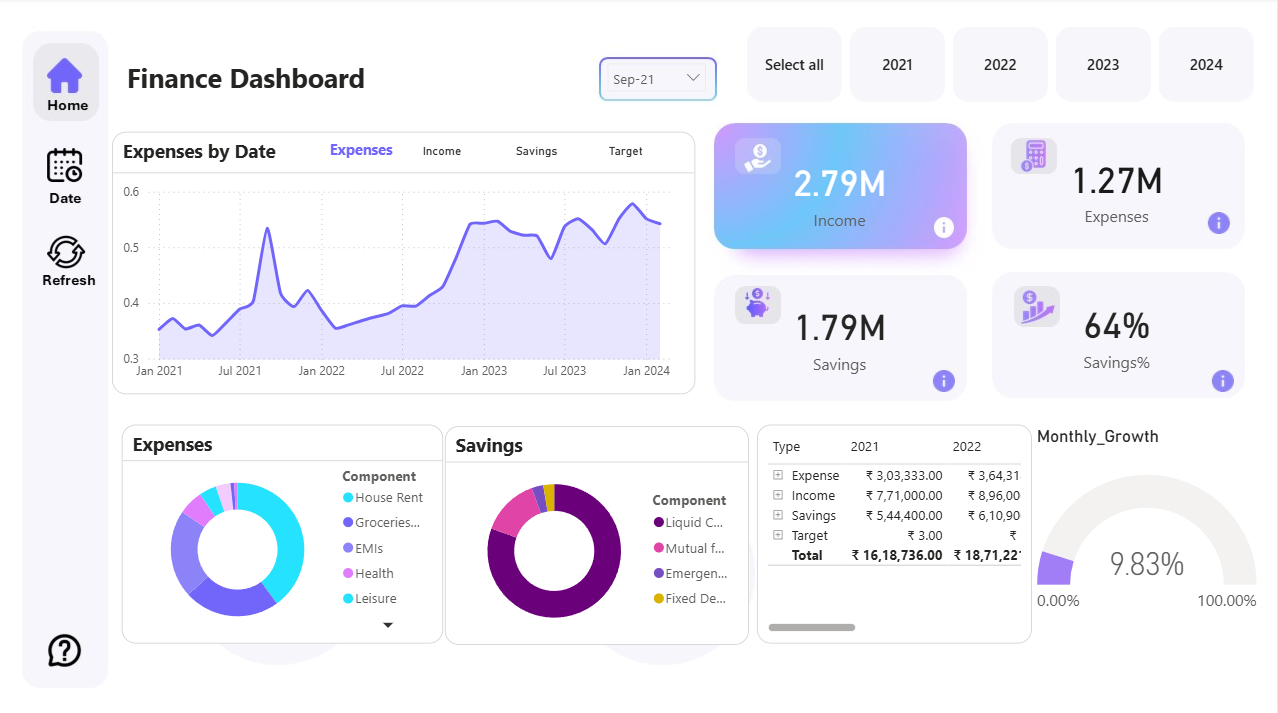

The page's visual inventory and layout, read from the dashboard file:
{"tool":"powerbi","page":{"name":"Page 1","canvas":[1280,720],"ordinal":0},"visuals":[{"type":"card","fields":{"Values":["DataSet.Expenses"]},"box":[1017.7,134.8,202.2,111.4],"z":0},{"type":"areaChart","fields":{"Category":["DataSet.Date.Variation.Date Hierarchy.Year","DataSet.Date.Variation.Date Hierarchy.Quarter","DataSet.Date.Variation.Date Hierarchy.Month","DataSet.Date.Variation.Date Hierarchy.Day"],"Y":["DataSet.Line_Chart_Measure"]},"box":[114.1,134.8,583.1,262.7],"z":1000},{"type":"card","fields":{"Values":["DataSet.Savings"]},"box":[734.4,280.6,214.5,115.5],"z":2000},{"type":"card","fields":{"Values":["DataSet.Savings%"]},"box":[1028.7,280.6,180.2,111.4],"z":3000},{"type":"advancedSlicerVisual","fields":{"Values":["DataSet.Year"]},"box":[744,24.8,519.9,85.3],"z":4000},{"type":"donutChart","title":"Savings","fields":{"Y":["DataSet.Savings"],"Category":["DataSet.Component"]},"box":[447,429.1,303.9,218.7],"z":5000},{"type":"donutChart","title":"Expenses","fields":{"Y":["DataSet.Expenses"],"Category":["DataSet.Component"]},"box":[123.8,427.7,321.8,218.7],"z":6000},{"type":"pivotTable","fields":{"Values":["DataSet.Total_Value"],"Rows":["DataSet.Type","DataSet.Component"],"Columns":["DataSet.Year"]},"box":[759.2,427.7,275.1,218.7],"z":7000},{"type":"advancedSlicerVisual","fields":{"Values":["Line_Selection_Table.Type"]},"box":[321.8,134.8,375.5,38.5],"z":8000},{"type":"card","fields":{"Values":["DataSet.Income"]},"box":[734.4,143,214.5,101.8],"z":9000},{"type":"textbox","box":[123.8,56.4,302.6,53.6],"z":10000},{"type":"slicer","fields":{"Values":["Selected_Date.Month-Yr"]},"box":[599.6,56.4,118.3,53.6],"z":11000},{"type":"gauge","fields":{"Y":["DataSet.Monthly_Growth","select"]},"box":[1034.2,429.1,229.7,218.7],"z":12000},{"type":"actionButton","box":[22.9,142.9,91.4,51.4],"z":13000},{"type":"actionButton","box":[22.9,232.9,91.4,62.9],"z":15000}]}

Visuals, with their boxes on the page's 1280x720 design canvas (x1, y1, x2, y2). These are canvas units, not pixel positions in the 1278x713 screenshot, which may show the page scaled, cropped or inside an application window:
card - DataSet.Expenses: 1018:135:1220:246
areaChart - DataSet.Date.Variation.Date Hierarchy.Year x DataSet.Date.Variation.Date Hierarchy.Quarter: 114:135:697:398
card - DataSet.Savings: 734:281:949:396
card - DataSet.Savings%: 1029:281:1209:392
advancedSlicerVisual - DataSet.Year: 744:25:1264:110
"Savings" donutChart: 447:429:751:648
"Expenses" donutChart: 124:428:446:646
pivotTable - DataSet.Total_Value x DataSet.Type: 759:428:1034:646
advancedSlicerVisual - Line_Selection_Table.Type: 322:135:697:173
card - DataSet.Income: 734:143:949:245
textbox: 124:56:426:110
slicer - Selected_Date.Month-Yr: 600:56:718:110
gauge - DataSet.Monthly_Growth x select: 1034:429:1264:648
actionButton: 23:143:114:194
actionButton: 23:233:114:296
